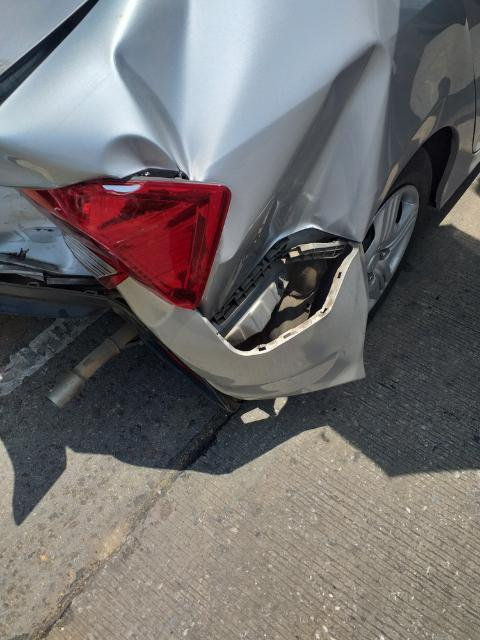dent: (0, 0, 250, 273), (225, 43, 390, 304)
dislocated part: (109, 232, 372, 404)
lamp broken: (20, 176, 232, 310)
